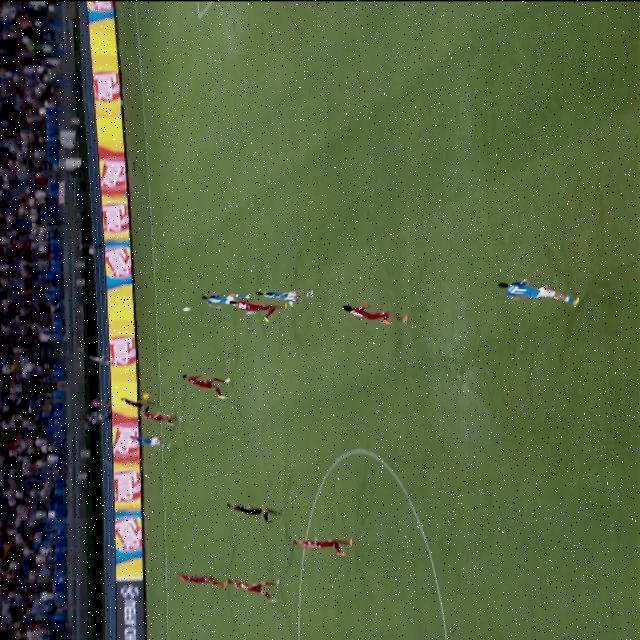ball: (179, 306, 193, 312)
player: (496, 278, 583, 306), (224, 577, 293, 607), (338, 297, 409, 325), (180, 371, 240, 399), (162, 566, 223, 591), (291, 537, 360, 558), (243, 288, 324, 302), (188, 291, 246, 307), (130, 436, 176, 452), (231, 305, 281, 316), (144, 413, 184, 424)
referee: (220, 500, 281, 524), (121, 393, 159, 413)
